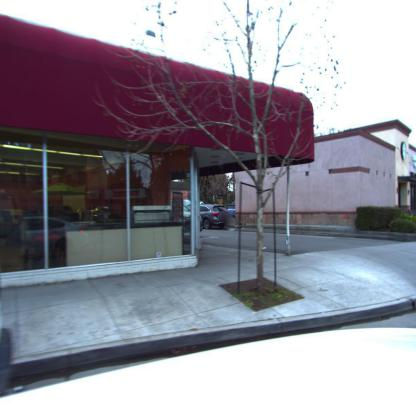car: (198, 204, 228, 229)
